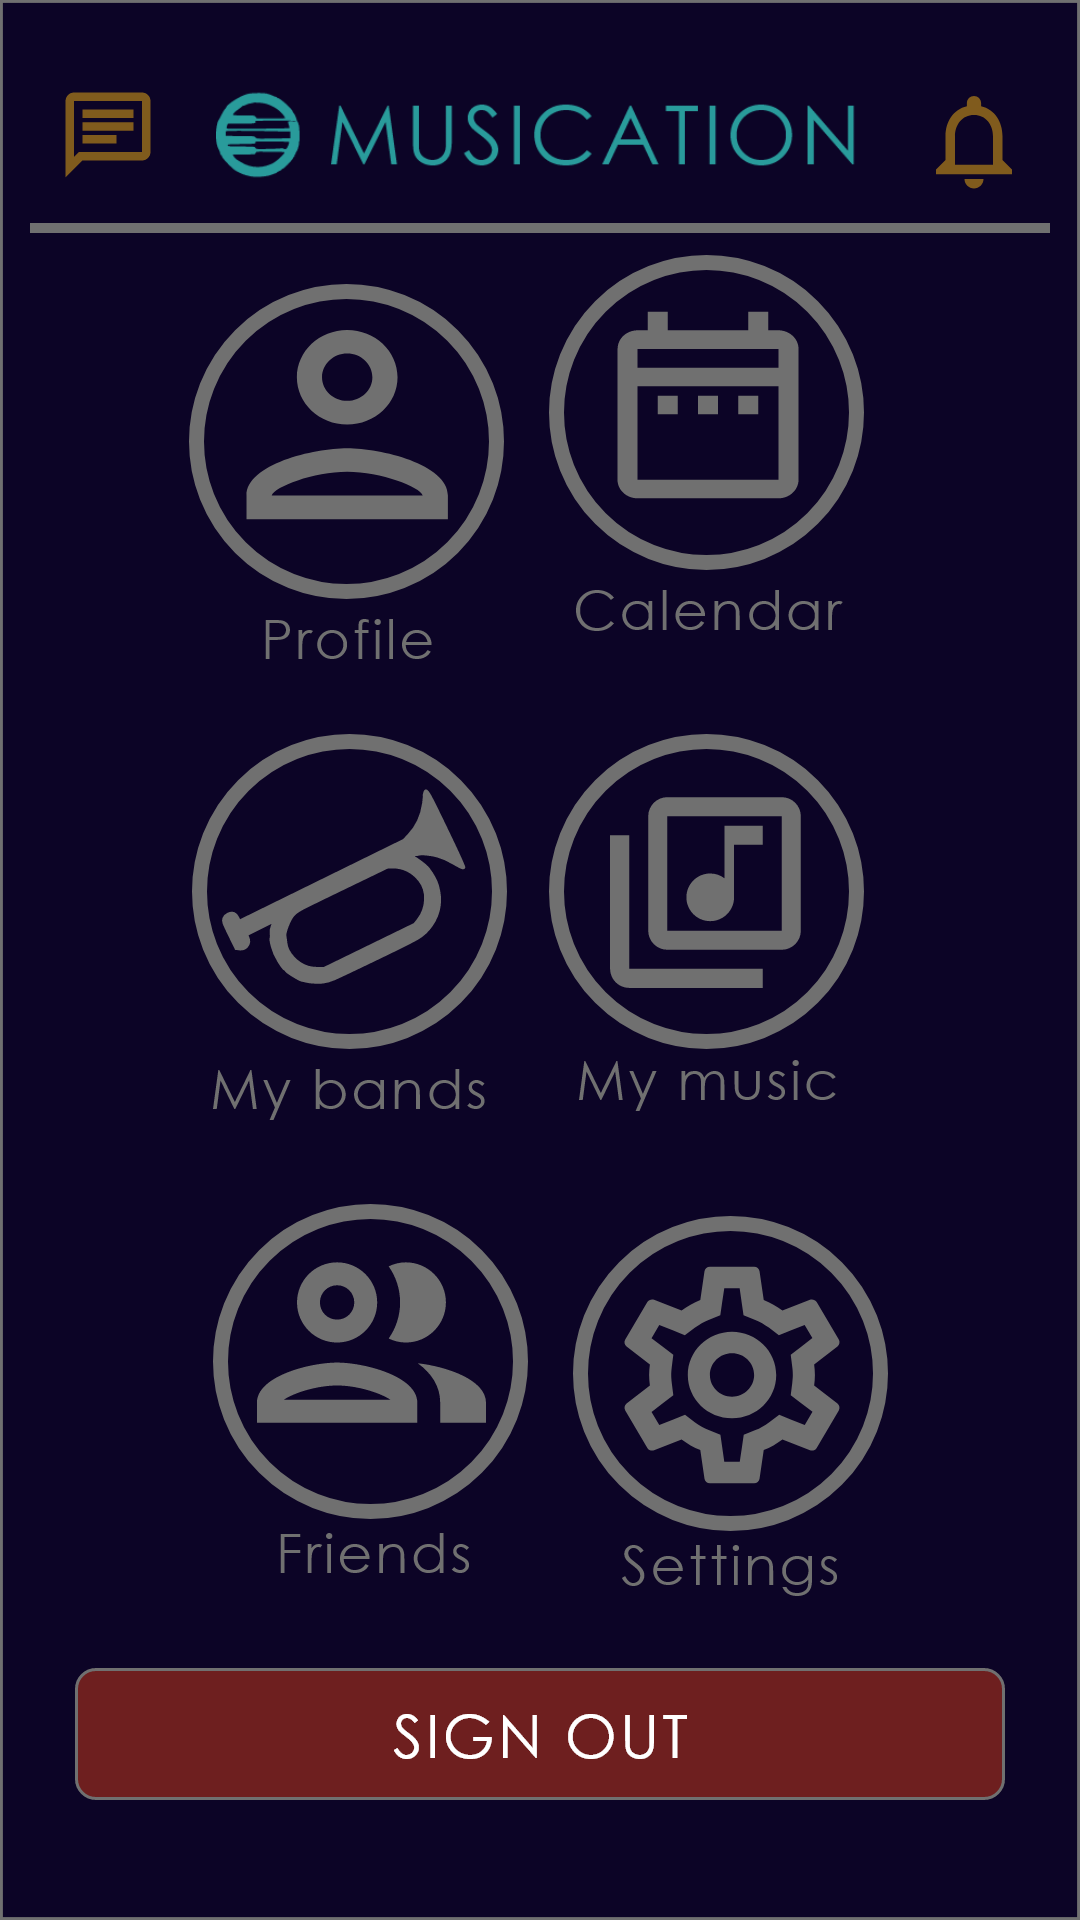

Screen size 1080x1920. Icon name, then its center in pixels as (x,y):
chat: (108,134)
notification: (974,142)
